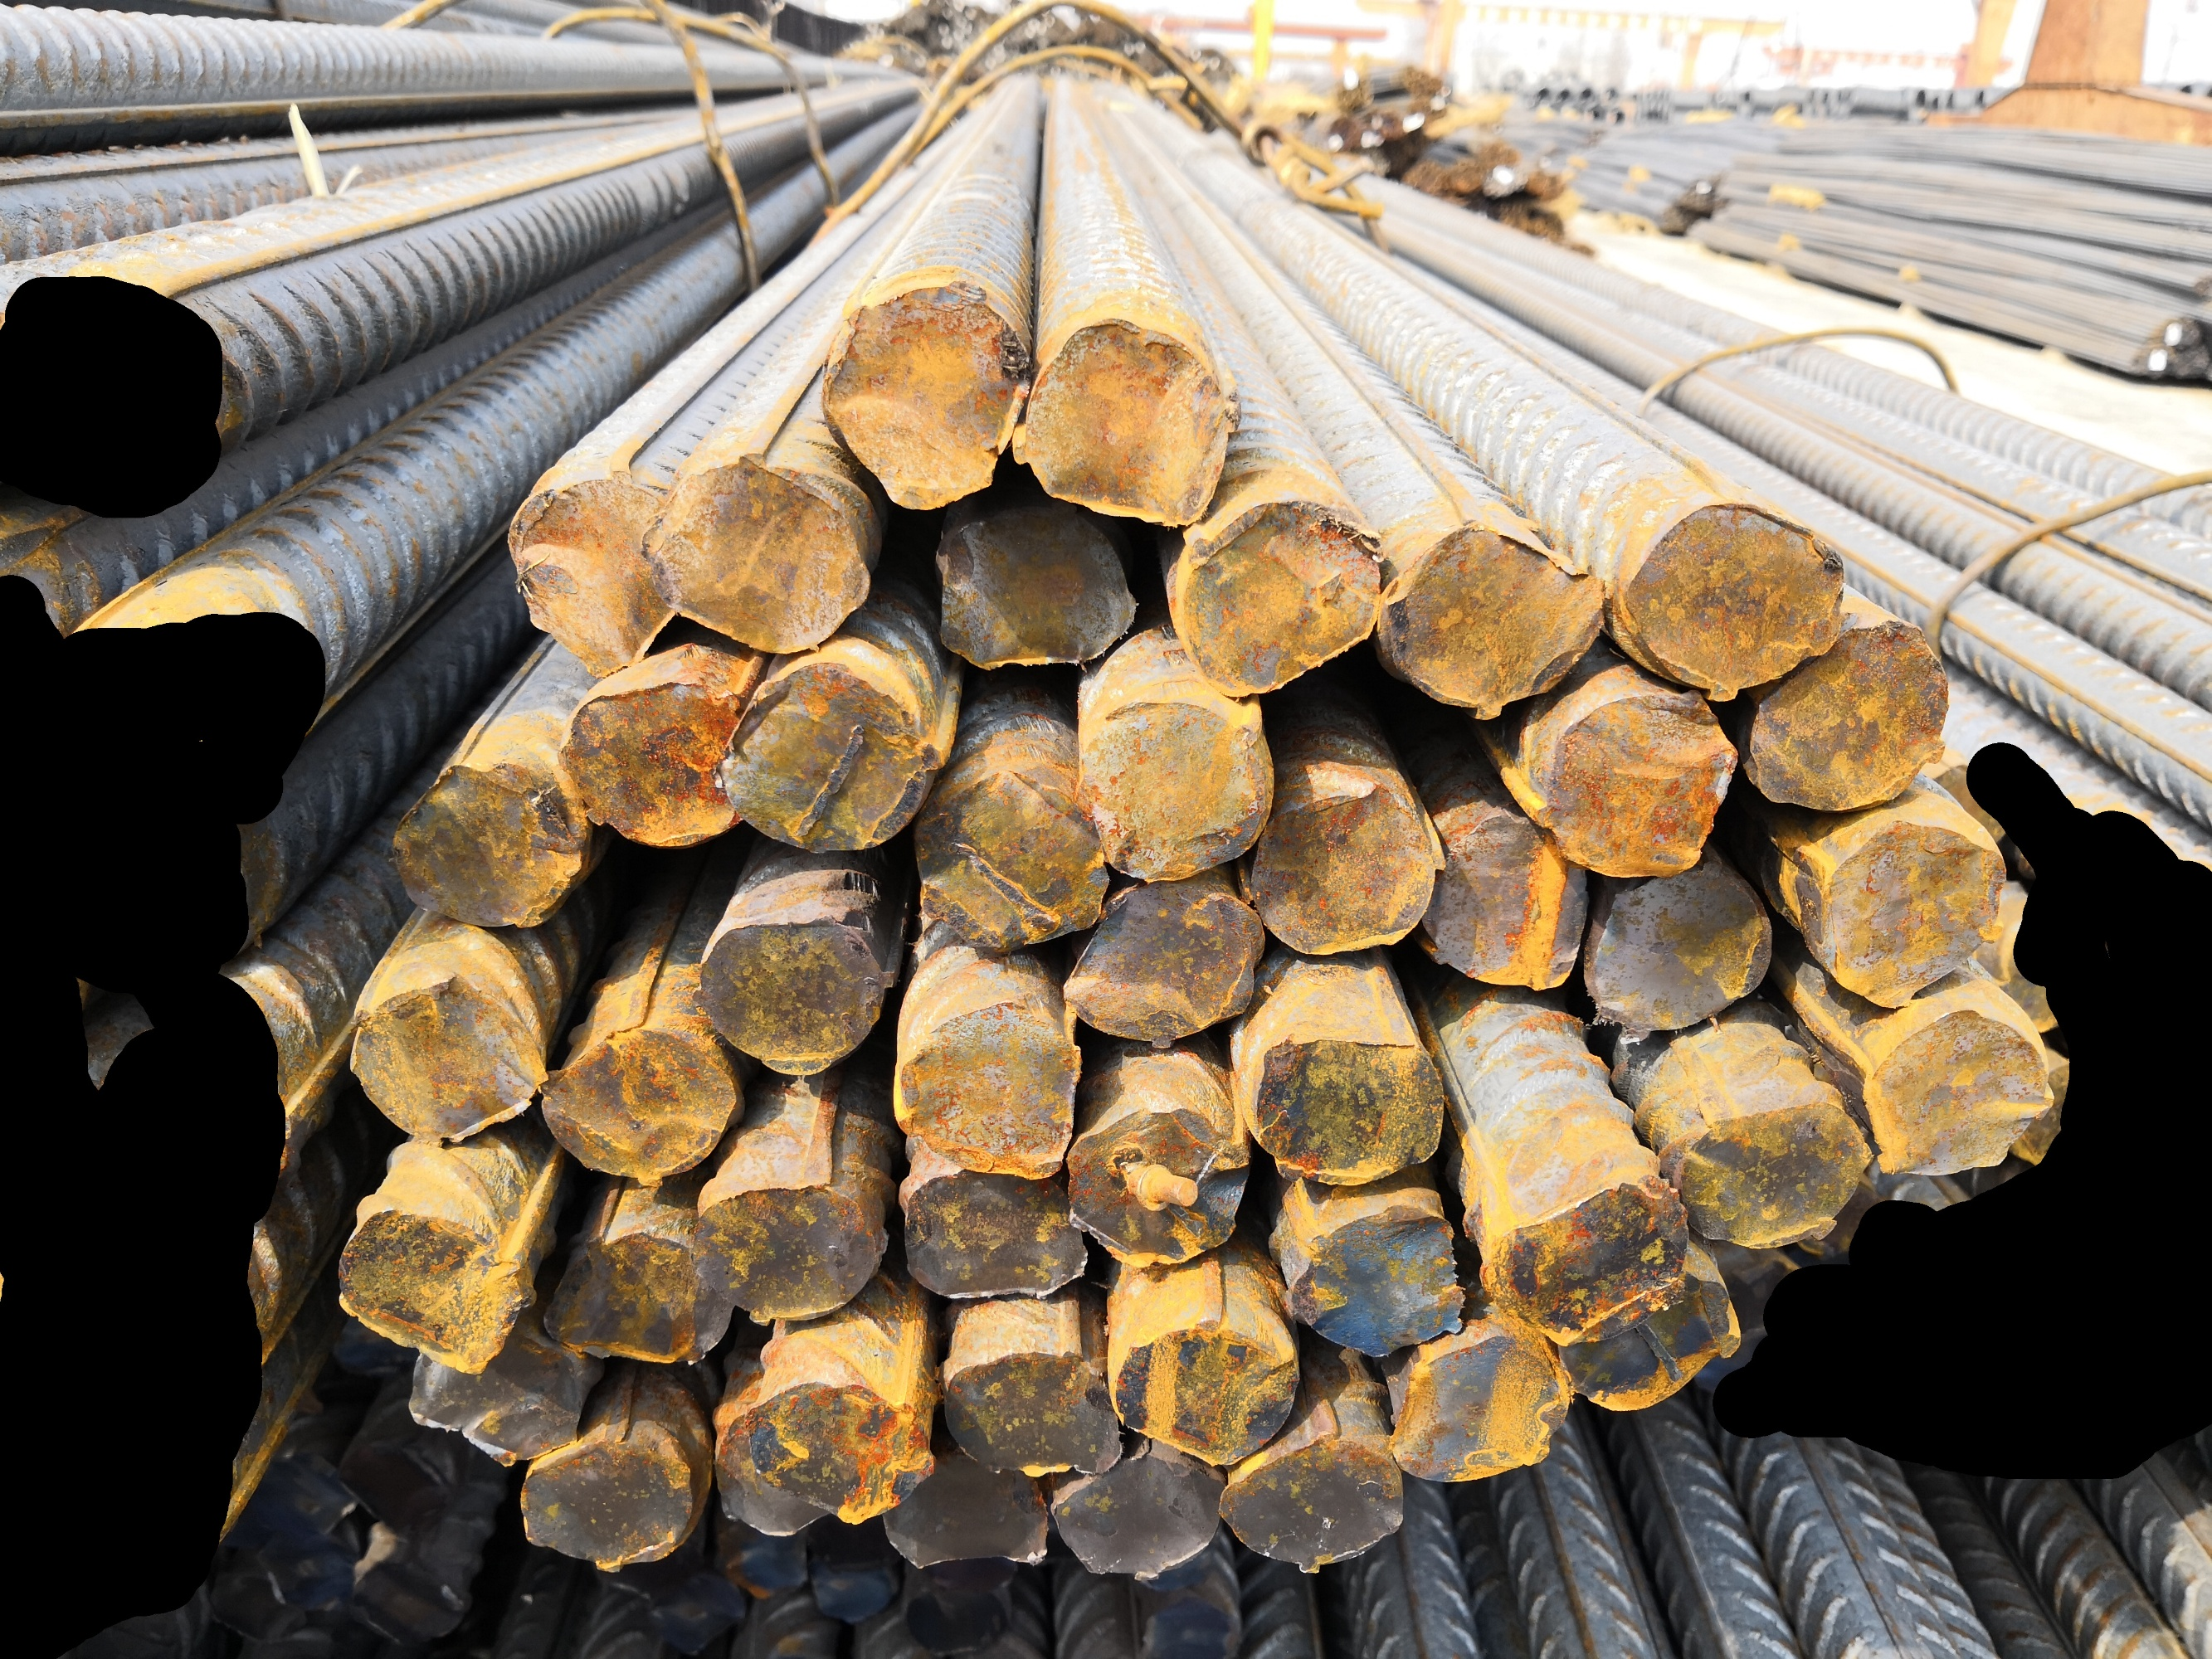rebar: (1009, 312, 1246, 533), (819, 279, 1037, 518), (1612, 493, 1849, 708), (1374, 514, 1609, 720), (648, 444, 873, 657), (718, 657, 952, 859), (1738, 608, 1954, 814), (1171, 497, 1386, 702), (1523, 683, 1743, 884), (502, 455, 690, 685), (1245, 756, 1450, 964), (906, 758, 1114, 955), (1811, 814, 2012, 1014), (1075, 695, 1279, 889), (929, 500, 1142, 676), (328, 1199, 537, 1377), (1060, 880, 1272, 1054), (1581, 850, 1780, 1035), (343, 971, 547, 1150), (1487, 1175, 1694, 1349), (537, 1012, 741, 1188), (695, 908, 896, 1084), (894, 995, 1081, 1182), (1863, 1004, 2059, 1180), (390, 760, 587, 932), (1245, 1028, 1452, 1192), (558, 676, 748, 854), (1422, 803, 1591, 999), (1063, 1103, 1253, 1276), (1670, 1096, 1874, 1253), (1279, 1195, 1471, 1359), (687, 1175, 885, 1328), (1105, 1312, 1299, 1469), (1384, 1331, 1571, 1492), (544, 1215, 736, 1368), (1557, 1265, 1745, 1417), (748, 1375, 940, 1523), (940, 1338, 1130, 1481), (401, 1324, 594, 1464), (1213, 1434, 1408, 1572), (518, 1432, 701, 1577), (1049, 1439, 1225, 1589), (899, 1168, 1091, 1304), (866, 1452, 1056, 1575), (709, 1408, 833, 1540)
